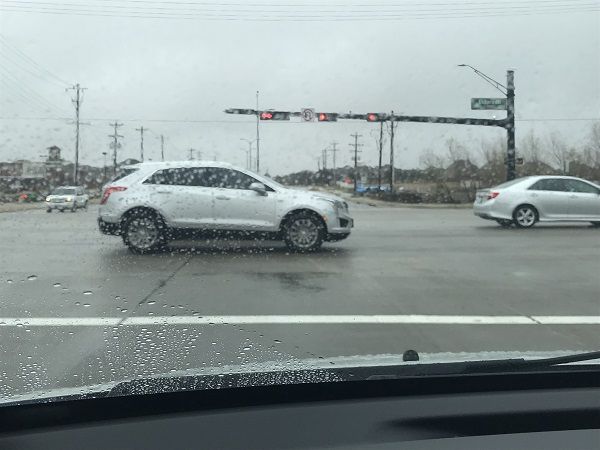car: (97, 161, 349, 252), (474, 175, 599, 231), (45, 185, 89, 213)
